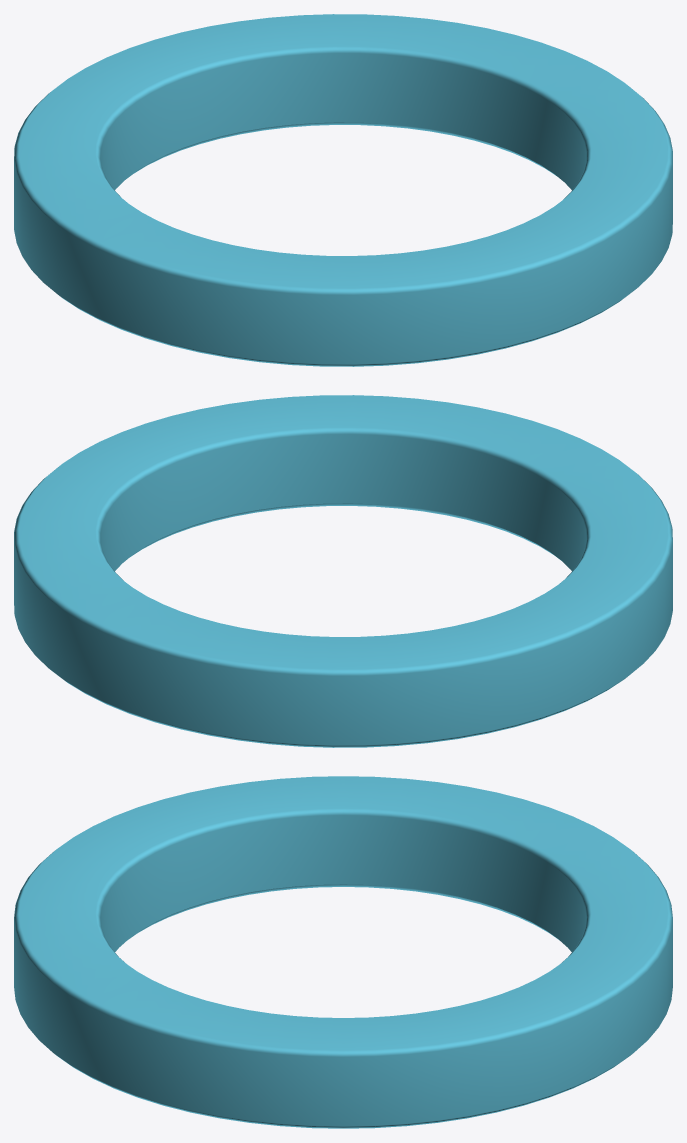
The picture shows the model from 3 angles, top to bottom: view 1: azimuth 30°, elevation 25°; view 2: azimuth 150°, elevation 25°; view 3: azimuth 270°, elevation 25°; orthographic projection.
Visible parts, largest first — view 1: seal_body; view 2: seal_body; view 3: seal_body.
Boxes of the visible parts, x1,y1,x2,y2 form: seal_body: (14, 14, 672, 366); seal_body: (14, 395, 672, 747); seal_body: (14, 776, 672, 1128).
Size of the model in its own units: 0.0603 by 0.00793 by 0.0603.
